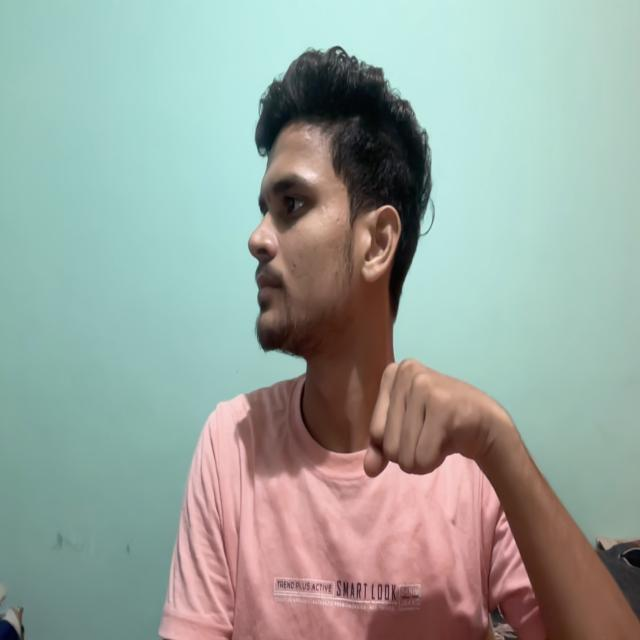yes: (357, 337, 494, 538)
